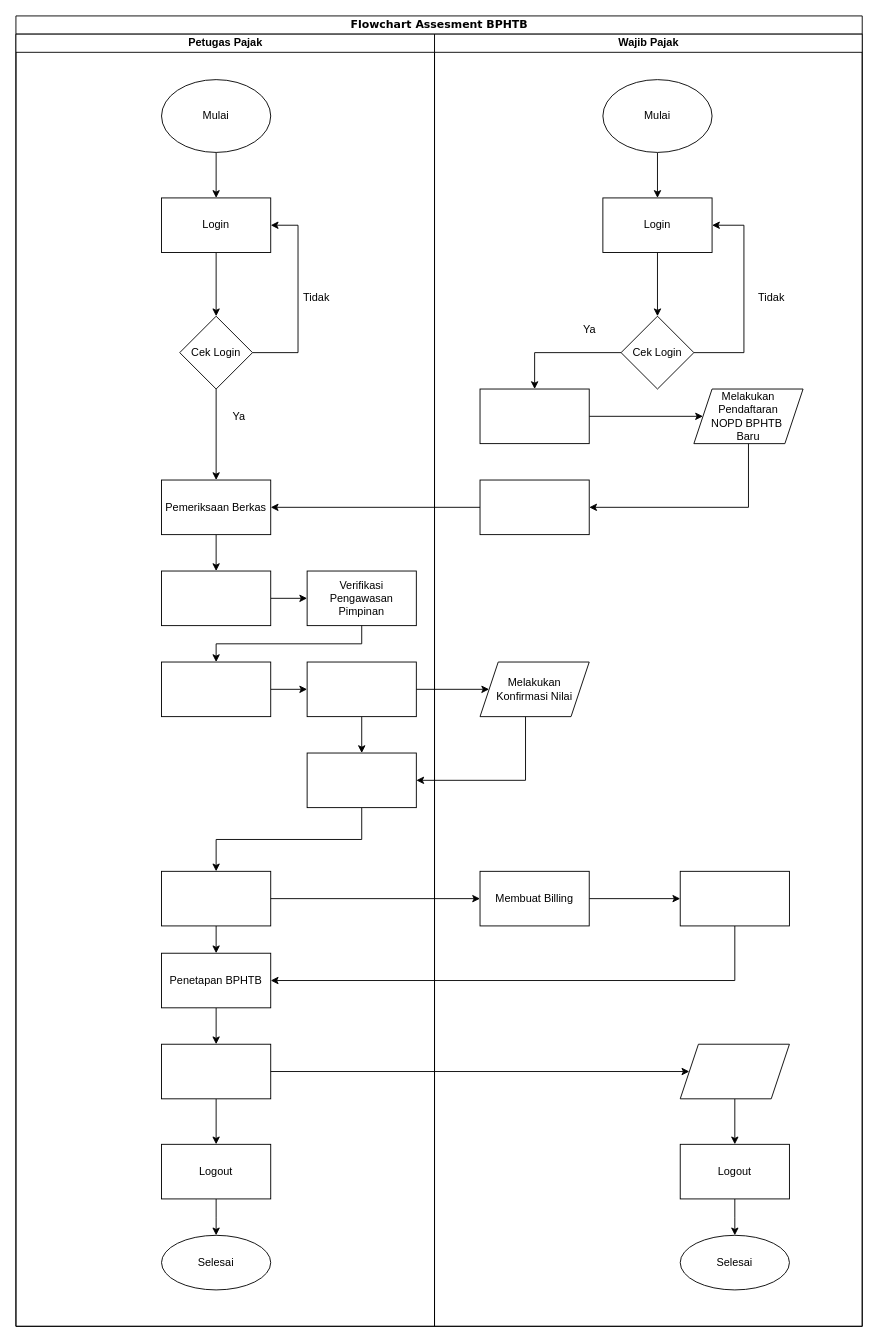
Image size: 878x1342. Some labels were removed from this diagram. Each missing label, with the centre of its shape:
Approve Perhitungan: [216,898]
Berkas divalidasi: [216,1071]
Entry Permohonan BPHTB: [534,416]
Nilai Diverifikasi: [361,689]
Pembayaran: [734,898]
Perhitungan BPHTB: [361,780]
SSPD: [734,1071]
Submit Pendaftaran: [534,507]
Verifikasi Nilai: [216,689]
Verifikasi Pengawasan Staff: [216,598]
